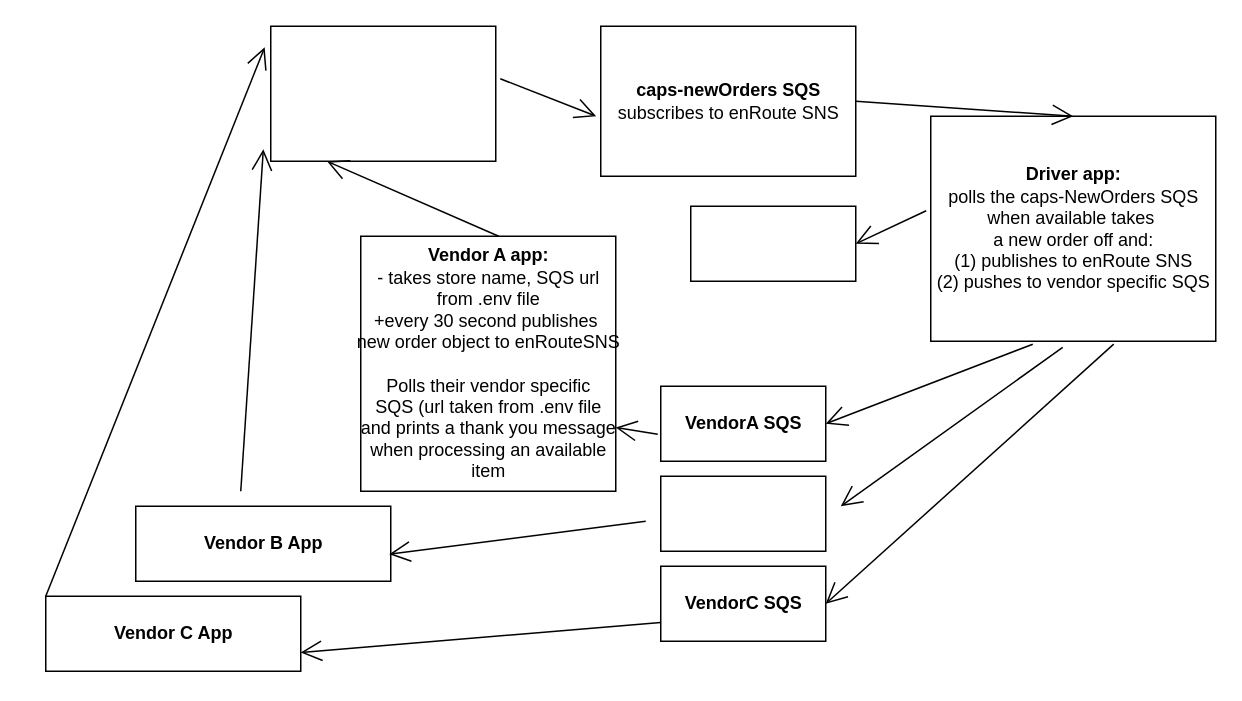
Some shapes in this 1242 by 701 pixel diagram are drawn without their labels. Here are the shapes that lost their labels. From the top down, the centre of each, then its label:
At point 382,93: "enRoute SNS publishes new orders to subscribers".
At point 772,243: "driverEnRoute SNS".
At point 742,513: "VendorB SQS".
